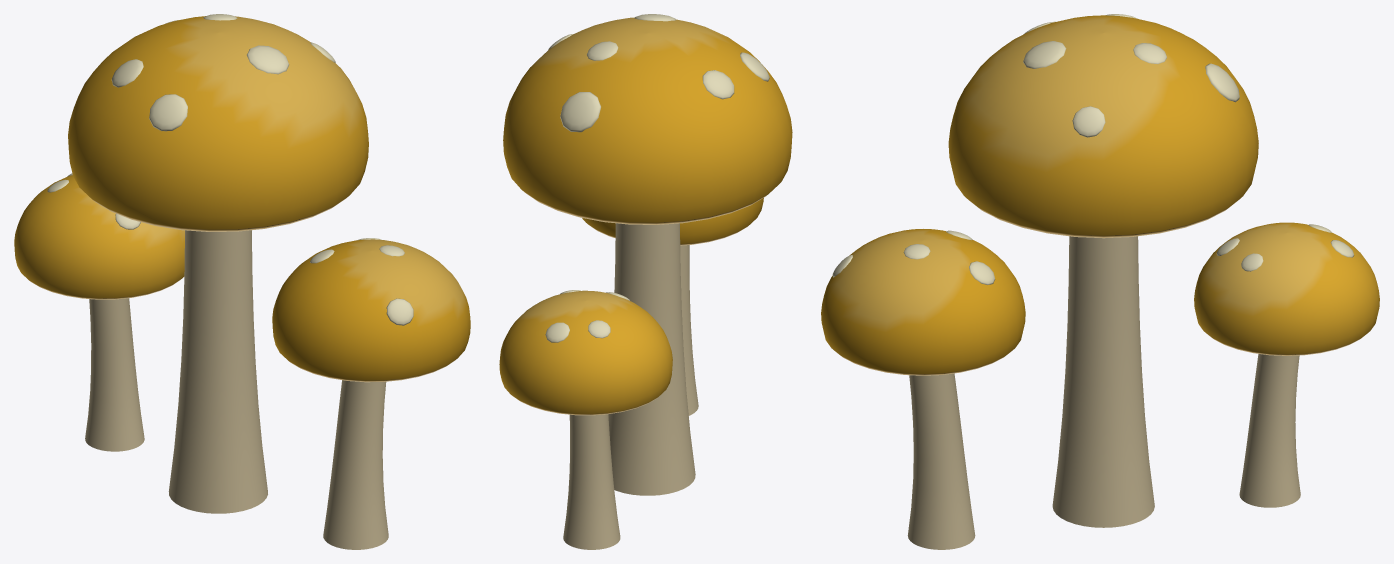
Rendered from mushroom-cluster-yellow.obj.
The picture shows the model from 3 angles, left to right: view 1: azimuth 30°, elevation 25°; view 2: azimuth 150°, elevation 25°; view 3: azimuth 270°, elevation 25°; orthographic projection. The views are drawn at different scales.
Visible parts, largest first — view 1: mushroom; view 2: mushroom; view 3: mushroom.
Boxes of the visible parts, bbox=[...] form: mushroom: bbox=[14, 14, 470, 549]; mushroom: bbox=[499, 14, 792, 549]; mushroom: bbox=[821, 14, 1379, 549].
Size of the model in its own units: 421 by 656 by 702.
